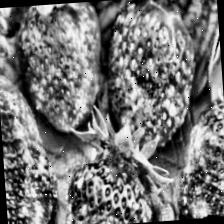Powdery Mildew Fruit: (103, 0, 201, 149), (17, 1, 108, 134), (0, 67, 61, 224), (55, 142, 155, 224), (170, 96, 224, 219)
